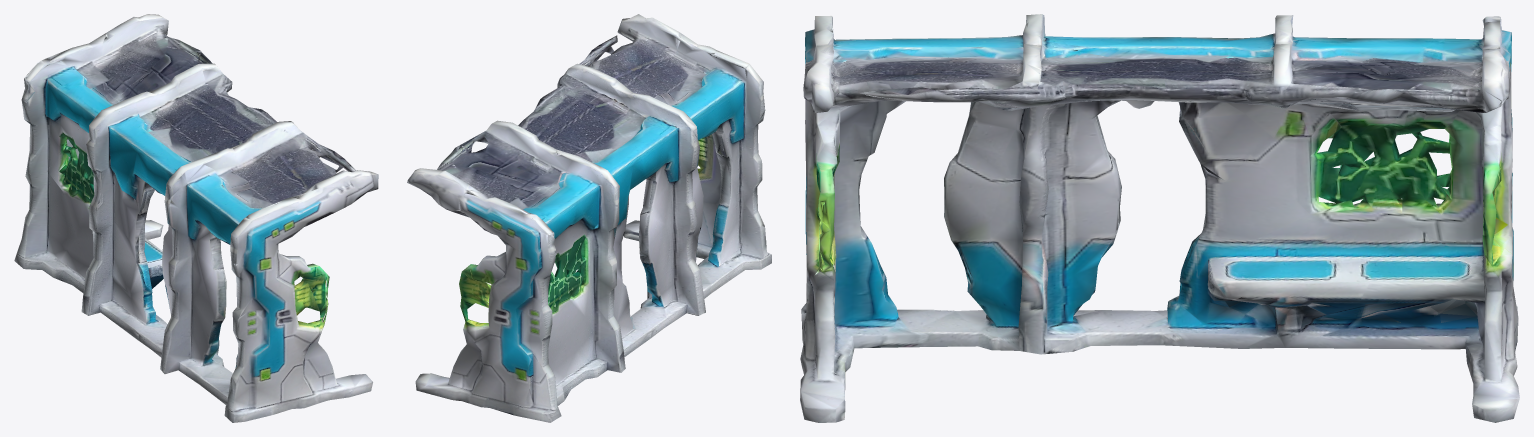
File: bus-stop-size-2-3.glb
3 views of the same model, side by side, from view 1: azimuth 30°, elevation 25°; view 2: azimuth 150°, elevation 25°; view 3: azimuth 270°, elevation 25° (orthographic). The views are drawn at different scales.
Parts seen in each view (by area): view 1: Bus_Stop; view 2: Bus_Stop; view 3: Bus_Stop.
Part boxes in pixels (x1,y1,x2,y2): Bus_Stop: (14,14,378,422); Bus_Stop: (407,14,771,422); Bus_Stop: (800,14,1519,422).
Bounding box in the file's own units: 1.94 × 2.7 × 4.99.
1 material, 1 textured.
